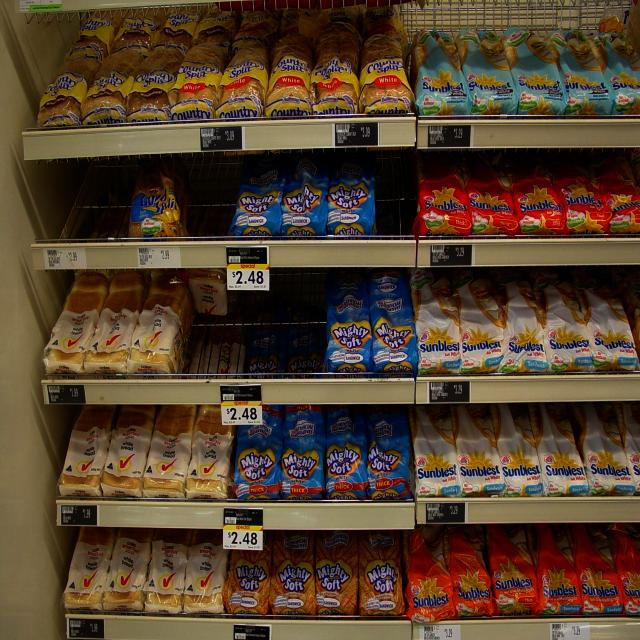empty_space: (199, 314, 322, 371), (419, 3, 593, 29), (186, 172, 230, 240), (375, 160, 413, 230), (92, 177, 132, 239)
